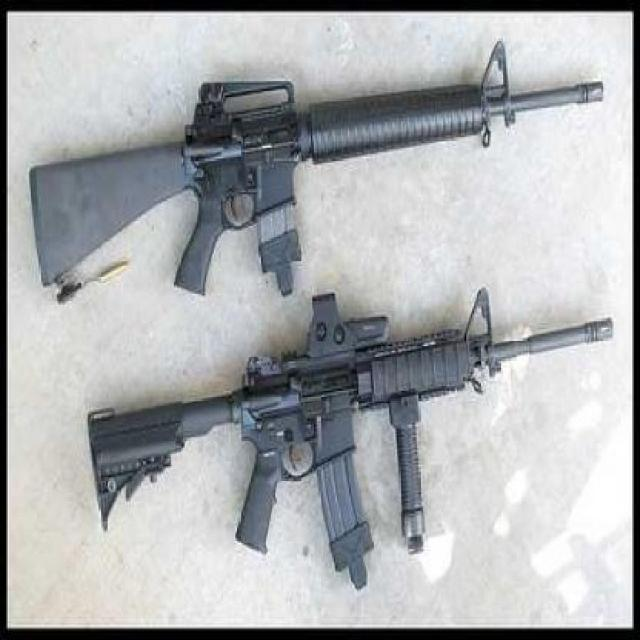weapon: (78, 295, 614, 563), (41, 35, 610, 264)
